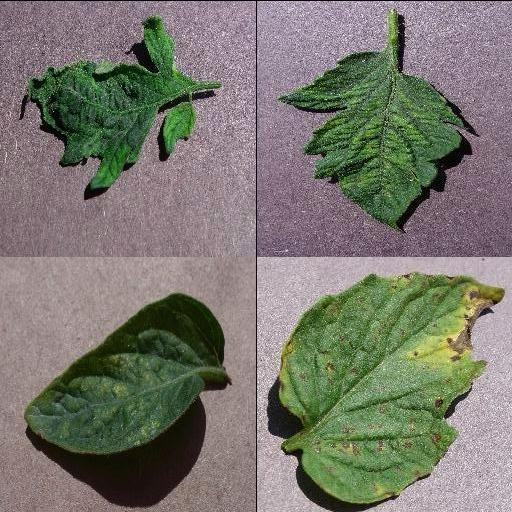Mosaic Virus: (274, 52, 468, 232), (27, 12, 197, 191)
Septoria: (278, 275, 506, 504)
Spider Mites: (25, 293, 225, 455)
